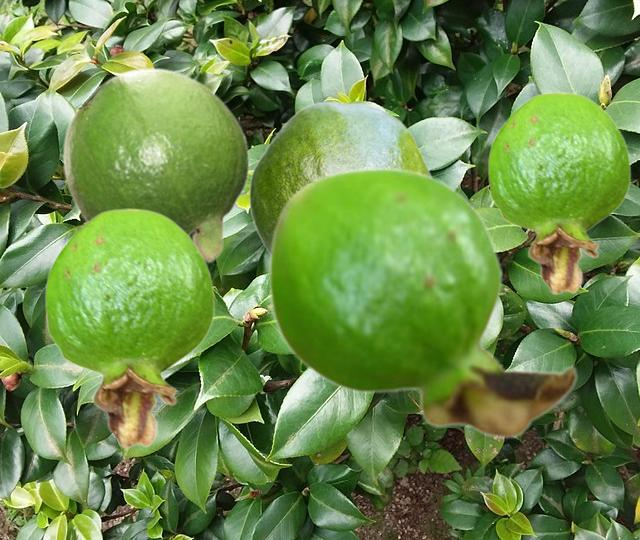guava: (267, 166, 578, 439), (44, 207, 214, 448), (61, 67, 249, 263), (487, 91, 630, 294), (248, 101, 431, 252)
